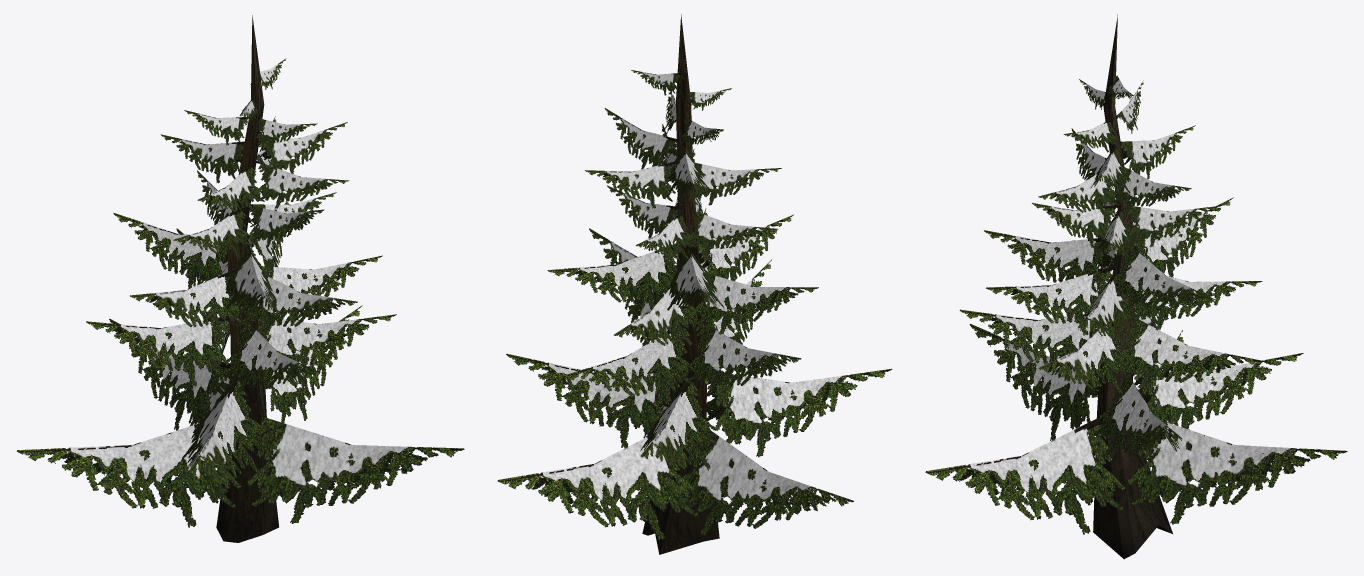
File: Snowy_PineTree.obj
3 renders of one model, left to right at view 1: azimuth 30°, elevation 25°; view 2: azimuth 150°, elevation 25°; view 3: azimuth 270°, elevation 25°, orthographic.
Parts seen in each view (by area): view 1: Snowy_Pinetree_Plane.009_Pine, Snowy_Pinetree_Plane.009_PSX_tree; view 2: Snowy_Pinetree_Plane.009_Pine, Snowy_Pinetree_Plane.009_PSX_tree; view 3: Snowy_Pinetree_Plane.009_Pine, Snowy_Pinetree_Plane.009_PSX_tree.
Boxes of the visible parts, x1=… form: Snowy_Pinetree_Plane.009_Pine: x1=16, y1=58, x2=464, y2=527; Snowy_Pinetree_Plane.009_PSX_tree: x1=216, y1=15, x2=278, y2=542; Snowy_Pinetree_Plane.009_Pine: x1=497, y1=70, x2=892, y2=540; Snowy_Pinetree_Plane.009_PSX_tree: x1=642, y1=14, x2=719, y2=554; Snowy_Pinetree_Plane.009_Pine: x1=925, y1=75, x2=1347, y2=534; Snowy_Pinetree_Plane.009_PSX_tree: x1=1093, y1=14, x2=1172, y2=559.
Bounding box in the file's own units: 4.14 × 5.92 × 4.31.
